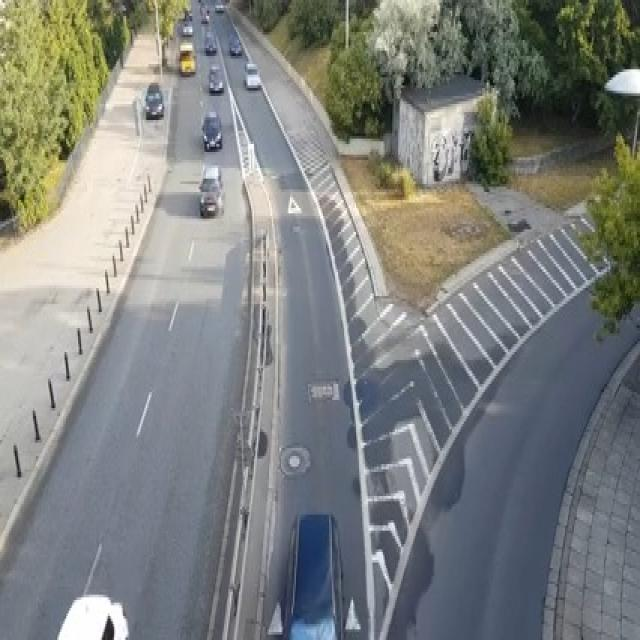car: (282, 512, 344, 637), (198, 163, 224, 216), (200, 110, 222, 150), (144, 83, 164, 117), (179, 42, 195, 74), (244, 61, 262, 88), (208, 64, 222, 93), (204, 32, 217, 53), (228, 35, 242, 53), (182, 18, 192, 34), (213, 0, 223, 13), (200, 11, 209, 21)
